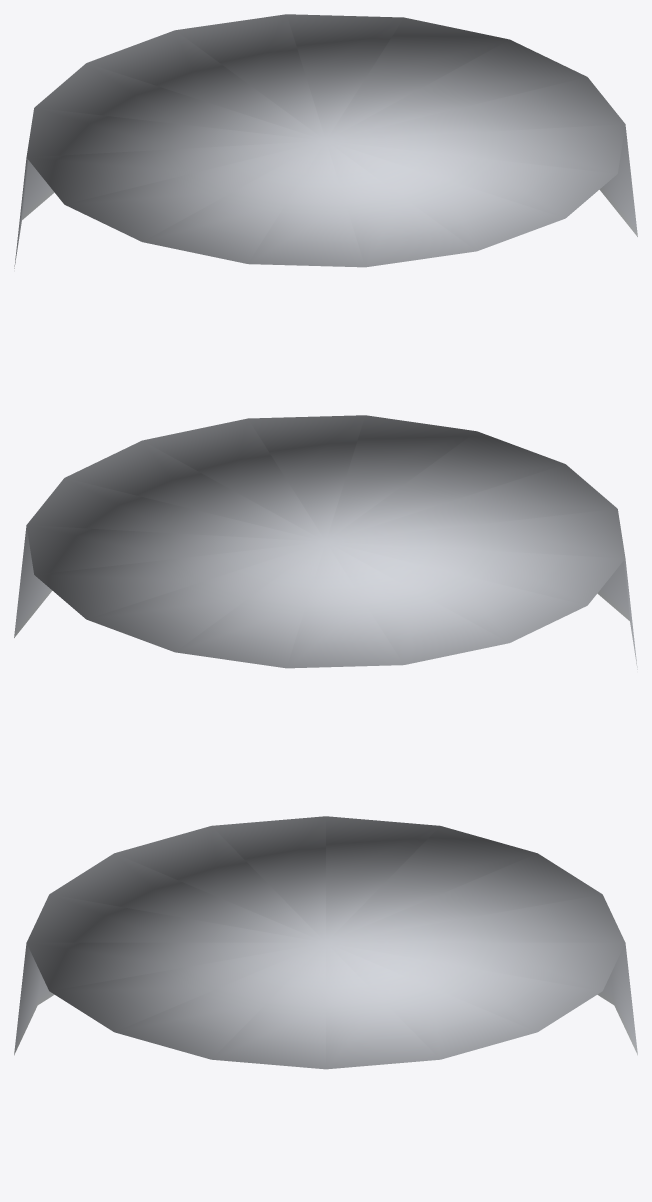
File: KIT_Dais_6x6.glb
3 renders of one model, top to bottom at view 1: azimuth 30°, elevation 25°; view 2: azimuth 150°, elevation 25°; view 3: azimuth 270°, elevation 25°, orthographic.
Visible parts, largest first — view 1: KIT_Dais_6x6; view 2: KIT_Dais_6x6; view 3: KIT_Dais_6x6.
Part boxes in pixels (x1,y1,x2,y2): KIT_Dais_6x6: (14, 14, 637, 268); KIT_Dais_6x6: (14, 415, 637, 669); KIT_Dais_6x6: (14, 816, 637, 1069).
Bounding box in the file's own units: 3 × 0.6 × 3.
Materials: 1 (1 with a texture image).
